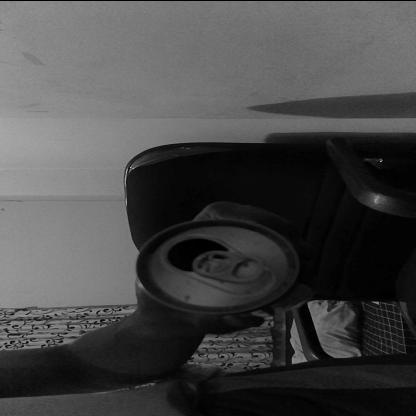alumunium_can: (132, 216, 302, 314)
